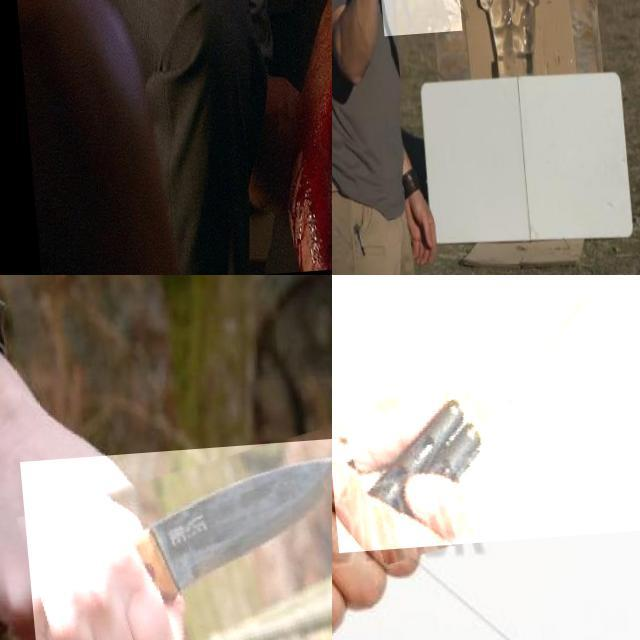-: (332, 275, 640, 557), (15, 444, 332, 640), (366, 0, 456, 86)
gun-knife-thesis - v11 Yolov5 augmented: (262, 0, 332, 138)
